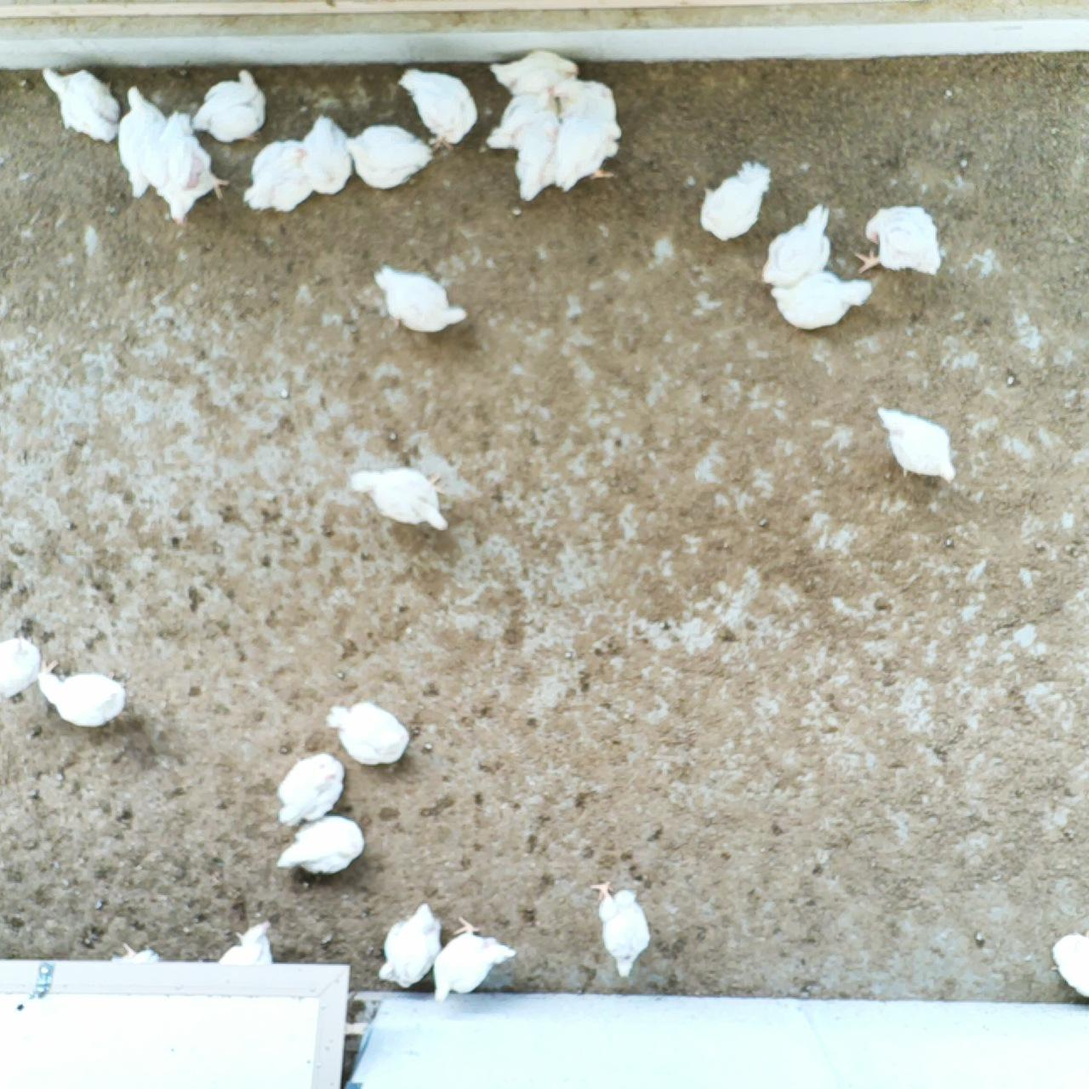chicken: (145, 110, 234, 231), (103, 84, 168, 204), (370, 267, 475, 339), (873, 399, 957, 487), (183, 64, 273, 145), (425, 917, 510, 1001), (765, 266, 873, 332), (395, 67, 480, 149), (760, 202, 838, 291), (587, 878, 654, 981), (700, 159, 775, 249), (354, 464, 451, 533), (35, 63, 120, 141), (851, 207, 945, 277), (326, 701, 418, 770), (343, 125, 434, 191), (32, 666, 124, 731), (240, 139, 313, 215), (277, 817, 367, 877), (555, 112, 624, 190), (485, 89, 565, 156), (278, 749, 346, 827), (485, 45, 580, 98), (377, 907, 441, 985), (299, 111, 356, 197), (513, 127, 568, 206), (215, 916, 282, 971), (0, 632, 53, 699), (549, 76, 617, 128), (1049, 928, 1089, 996), (105, 939, 159, 970)
